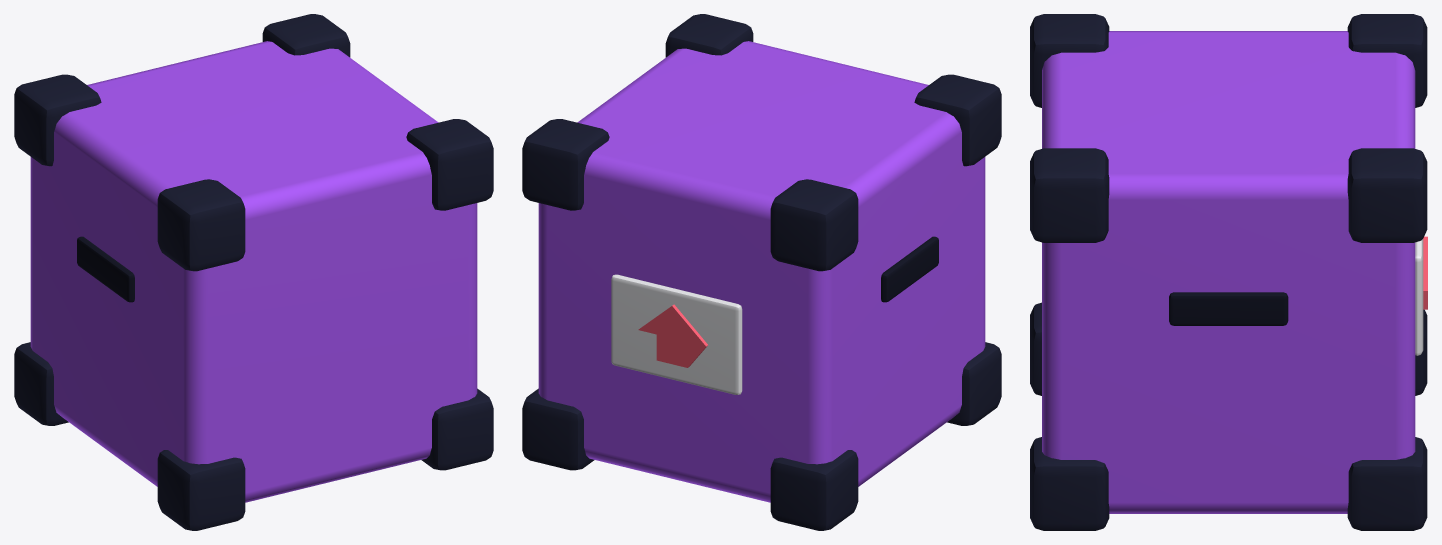
The model's file is crate_small.glb.
The picture shows the model from 3 angles, left to right: view 1: azimuth 30°, elevation 25°; view 2: azimuth 150°, elevation 25°; view 3: azimuth 270°, elevation 25°; orthographic projection. The views are drawn at different scales.
Visible parts, largest first — view 1: Body; view 2: Body; view 3: Body.
Boxes of the visible parts, x1,y1,x2,y2 form: Body: [14, 14, 493, 530]; Body: [522, 14, 1001, 530]; Body: [1030, 14, 1427, 530].
Size of the model in its own units: 0.6 by 0.6 by 0.6012.
